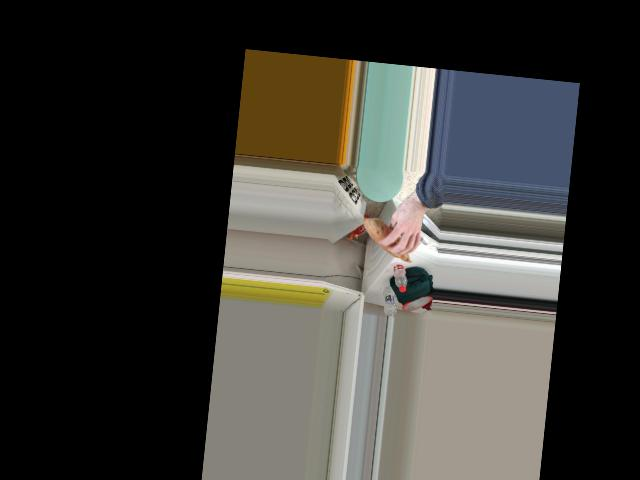sweet_potato: (363, 218, 419, 261)
